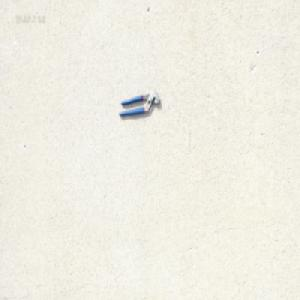Pliers: (118, 89, 160, 117)
